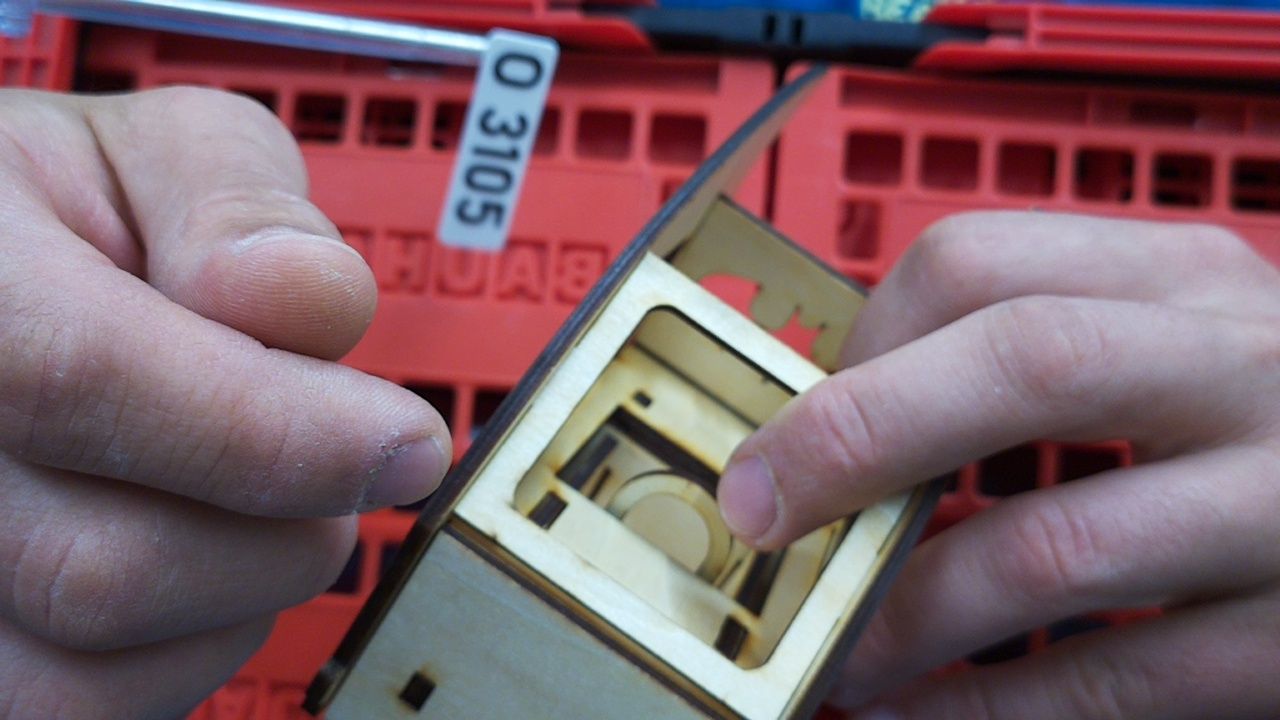license_plate: (435, 24, 561, 254)
